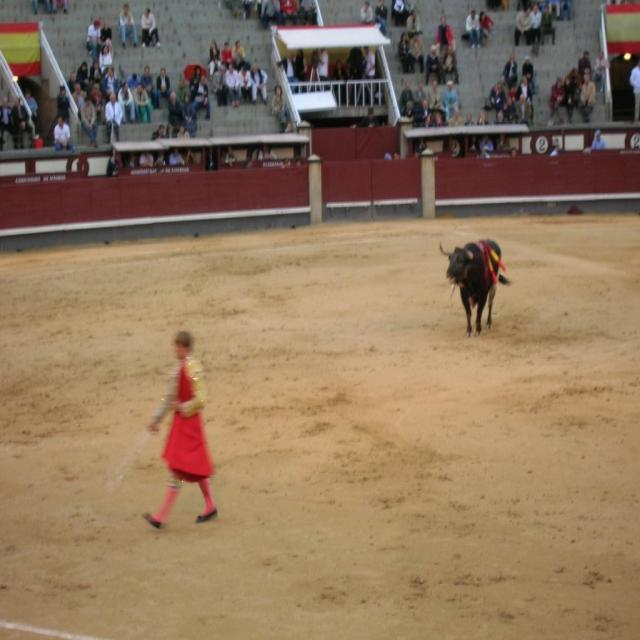Bull: (437, 238, 515, 336)
